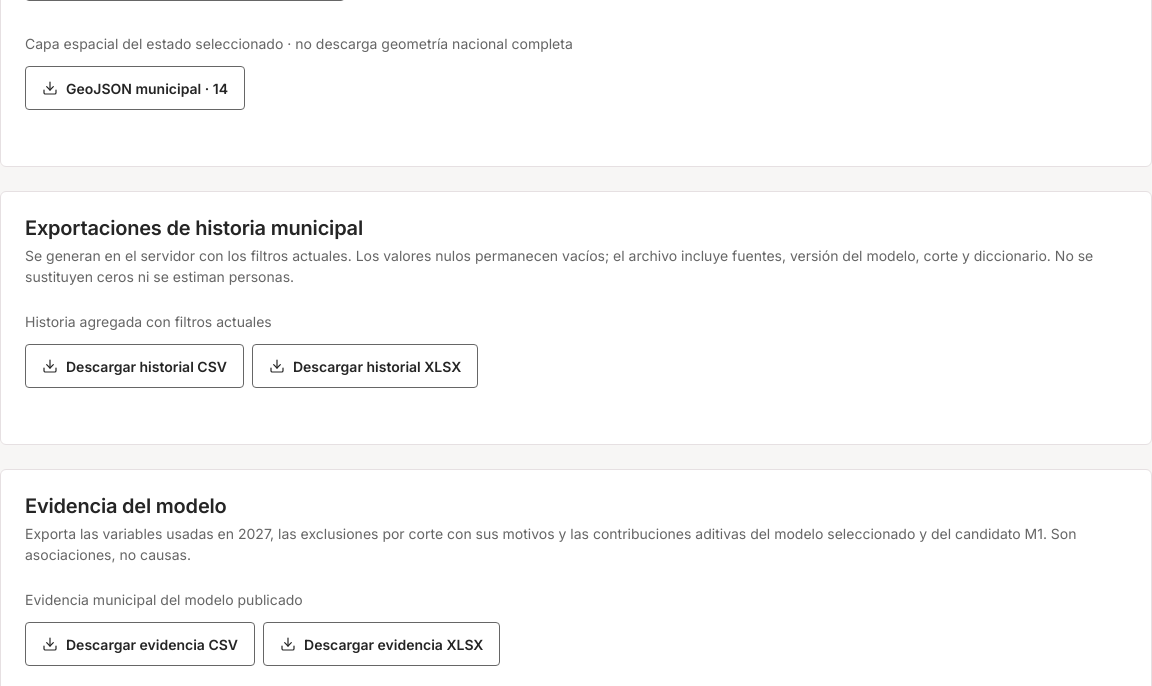
ReportsPage › offers only real history exports and explains missing institutional docs
The width and height of the screenshot is (1152, 686).
(page scrolled)
Expected: the button "Descargar historial XLSX" is enabled, [252,344,478,388]
Click the button "Descargar historial CSV" at (134, 366), box [25,344,244,388]
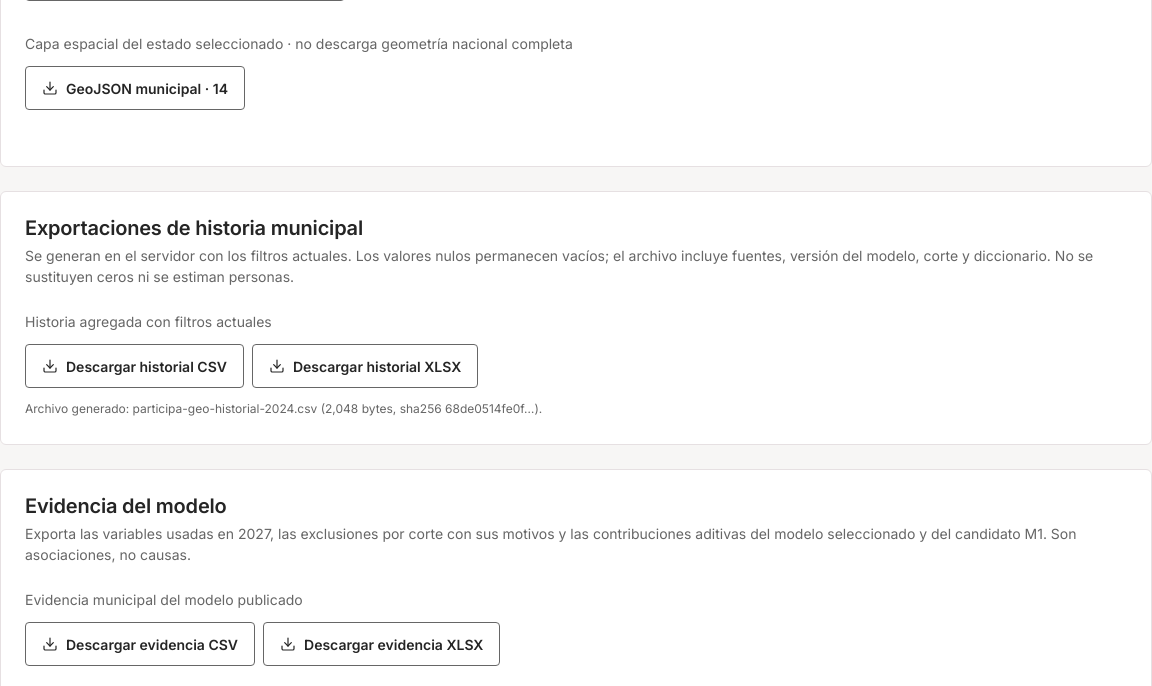
Expected: the text "Archivo generado: participa-geo-historial-2024.csv" is shown, [25,401,542,416]
